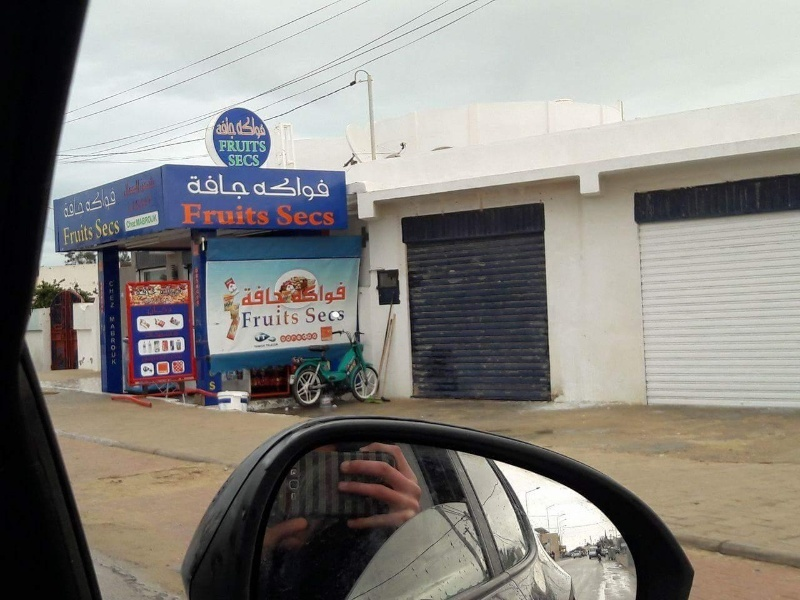text: (97, 185, 112, 217), (193, 172, 208, 201), (209, 172, 224, 201), (225, 172, 240, 201), (65, 194, 80, 223), (129, 173, 144, 201), (257, 176, 272, 202), (273, 176, 288, 202), (289, 176, 304, 202), (305, 176, 320, 202), (97, 215, 112, 241), (84, 185, 96, 217), (193, 202, 208, 227), (209, 202, 224, 227), (225, 202, 240, 227), (241, 202, 256, 227), (289, 202, 304, 227), (305, 202, 320, 227), (321, 202, 336, 227), (65, 222, 80, 247), (241, 116, 256, 140), (305, 282, 320, 306), (321, 282, 336, 306), (257, 286, 272, 310), (273, 286, 288, 310), (257, 202, 271, 227), (145, 173, 157, 201), (81, 222, 94, 247), (243, 286, 256, 310), (257, 309, 272, 329), (273, 309, 288, 329), (225, 116, 238, 139), (241, 172, 251, 201), (292, 282, 304, 306), (242, 309, 256, 329), (181, 202, 192, 227), (277, 202, 288, 227), (321, 176, 331, 202), (321, 307, 336, 324), (257, 116, 267, 140), (337, 282, 347, 306), (306, 307, 320, 324), (113, 215, 122, 241), (145, 213, 159, 229), (289, 309, 299, 329), (113, 316, 117, 366), (241, 154, 256, 167), (113, 185, 119, 217), (216, 116, 224, 139), (225, 140, 240, 152), (241, 140, 256, 152), (81, 194, 87, 223), (147, 303, 160, 316), (122, 173, 128, 201), (209, 381, 224, 392), (134, 213, 144, 229), (228, 154, 240, 167), (161, 303, 173, 316), (289, 333, 304, 343), (161, 286, 176, 296), (109, 316, 112, 366), (187, 172, 192, 201), (337, 307, 345, 324), (145, 287, 157, 298), (257, 140, 267, 152), (305, 333, 317, 343), (129, 219, 138, 232), (108, 281, 112, 309), (257, 332, 267, 343), (134, 287, 144, 298), (236, 116, 240, 140), (280, 333, 288, 343), (93, 215, 96, 241), (219, 140, 224, 152), (62, 194, 64, 223), (113, 281, 115, 309), (257, 343, 266, 349), (254, 176, 256, 202), (177, 286, 182, 296), (265, 341, 272, 348), (273, 341, 280, 348), (257, 154, 260, 167), (126, 219, 128, 232), (63, 222, 64, 247), (254, 343, 256, 349), (255, 332, 256, 343), (159, 286, 160, 296)
